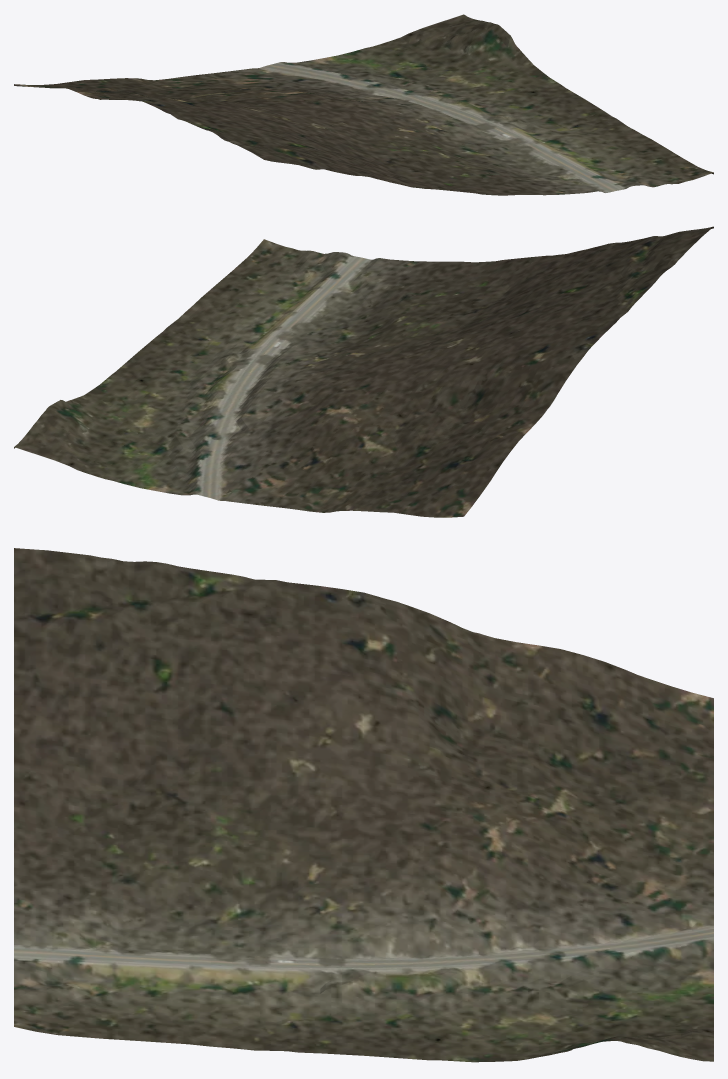
3 renders of one model, top to bottom at view 1: azimuth 30°, elevation 25°; view 2: azimuth 150°, elevation 25°; view 3: azimuth 270°, elevation 25°, orthographic. The views are drawn at different scales.
Bounding box in the file's own units: 250 × 84.7 × 241.
1 material, 1 textured.
